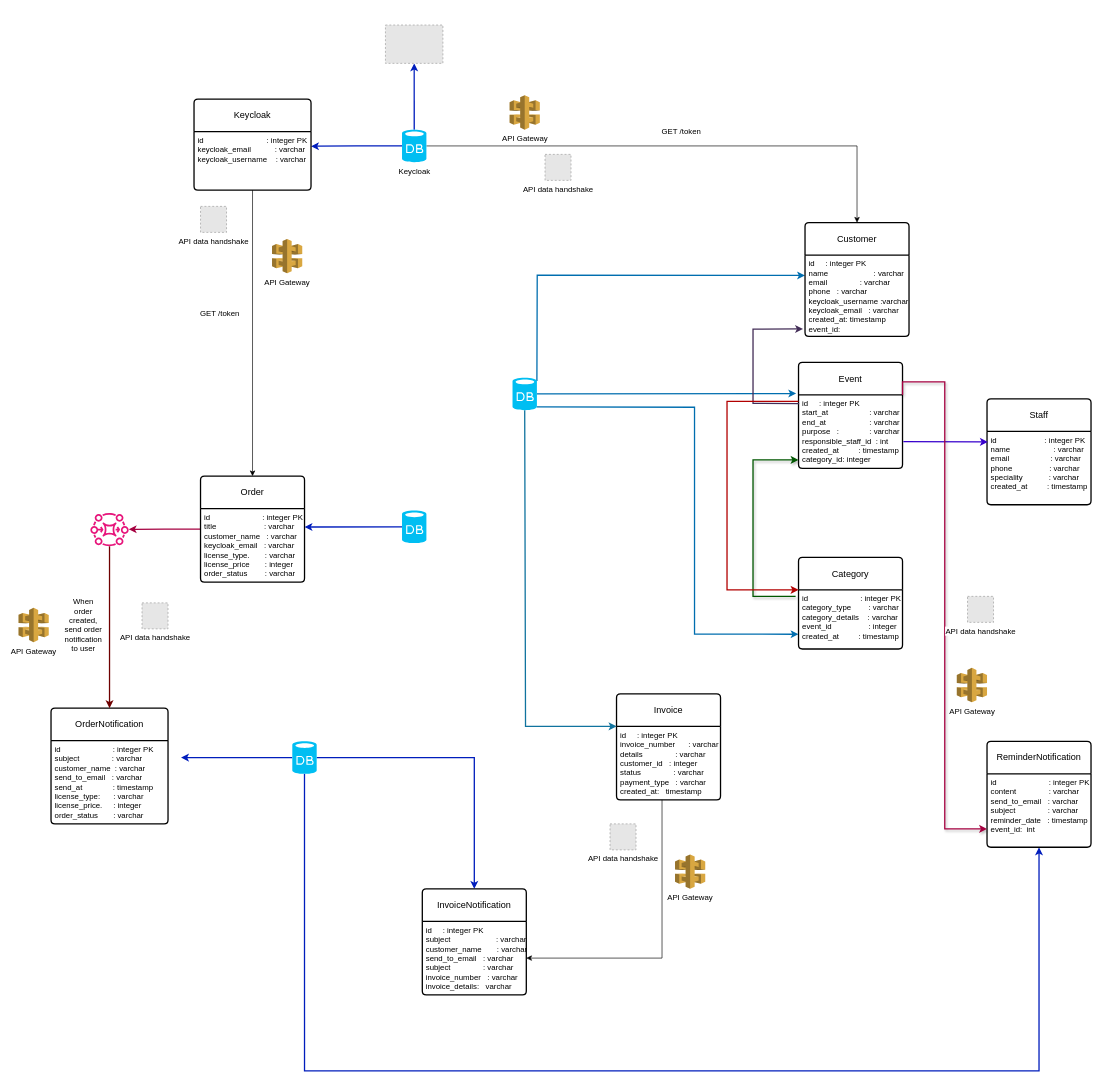
Image size: 1103x1087. Some labels were removed from this diagram. Grey dashed boxes stand in for pictures. Each missing label, with the centre of its shape:
"Booking" belongs at (524,393).
"MQ Brocker (Kafka)" belongs at (109,529).
"Notifications" belongs at (304,757).
"Orders" belongs at (414,526).
